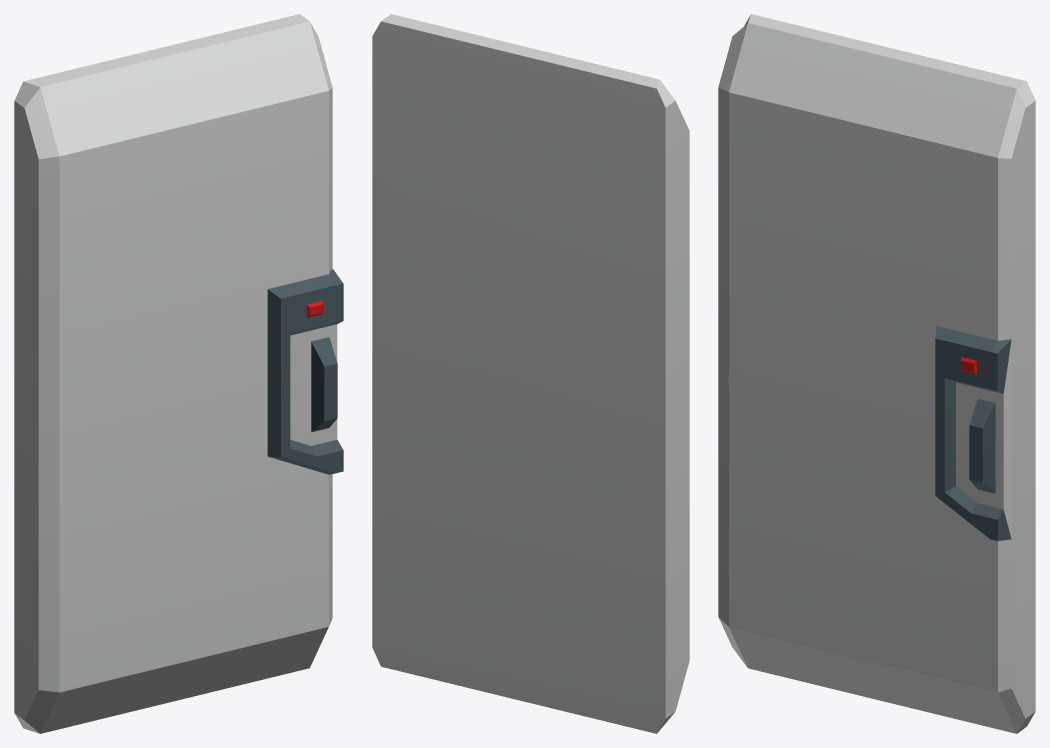
The model's file is Container_type_A_door_009.fbx.
The picture shows the model from 3 angles, left to right: view 1: azimuth 30°, elevation 25°; view 2: azimuth 150°, elevation 25°; view 3: azimuth 330°, elevation 25°; orthographic projection.
Parts seen in each view (by area): view 1: Container_type_A_door_009; view 2: Container_type_A_door_009; view 3: Container_type_A_door_009.
Part boxes in pixels (box(x1,y1,x2,y2)): Container_type_A_door_009: box(14, 14, 343, 733); Container_type_A_door_009: box(372, 14, 689, 733); Container_type_A_door_009: box(718, 14, 1035, 733).
Size of the model in its own units: 84.16 by 20.43 by 177.
